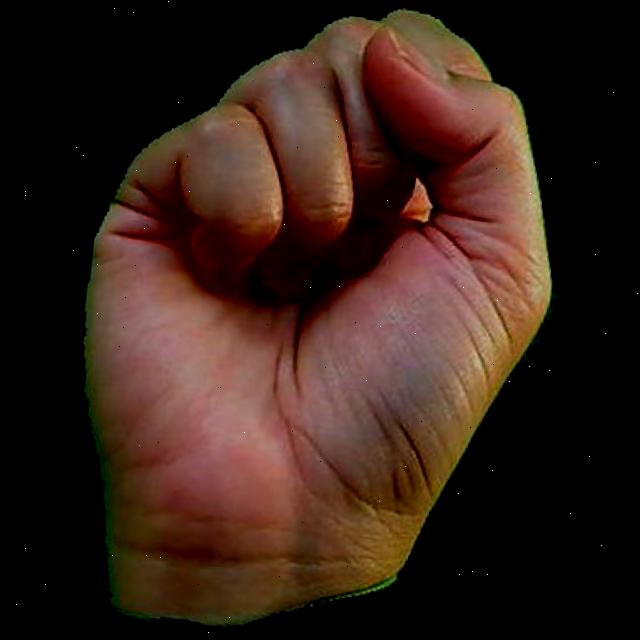s: (41, 0, 593, 640)
